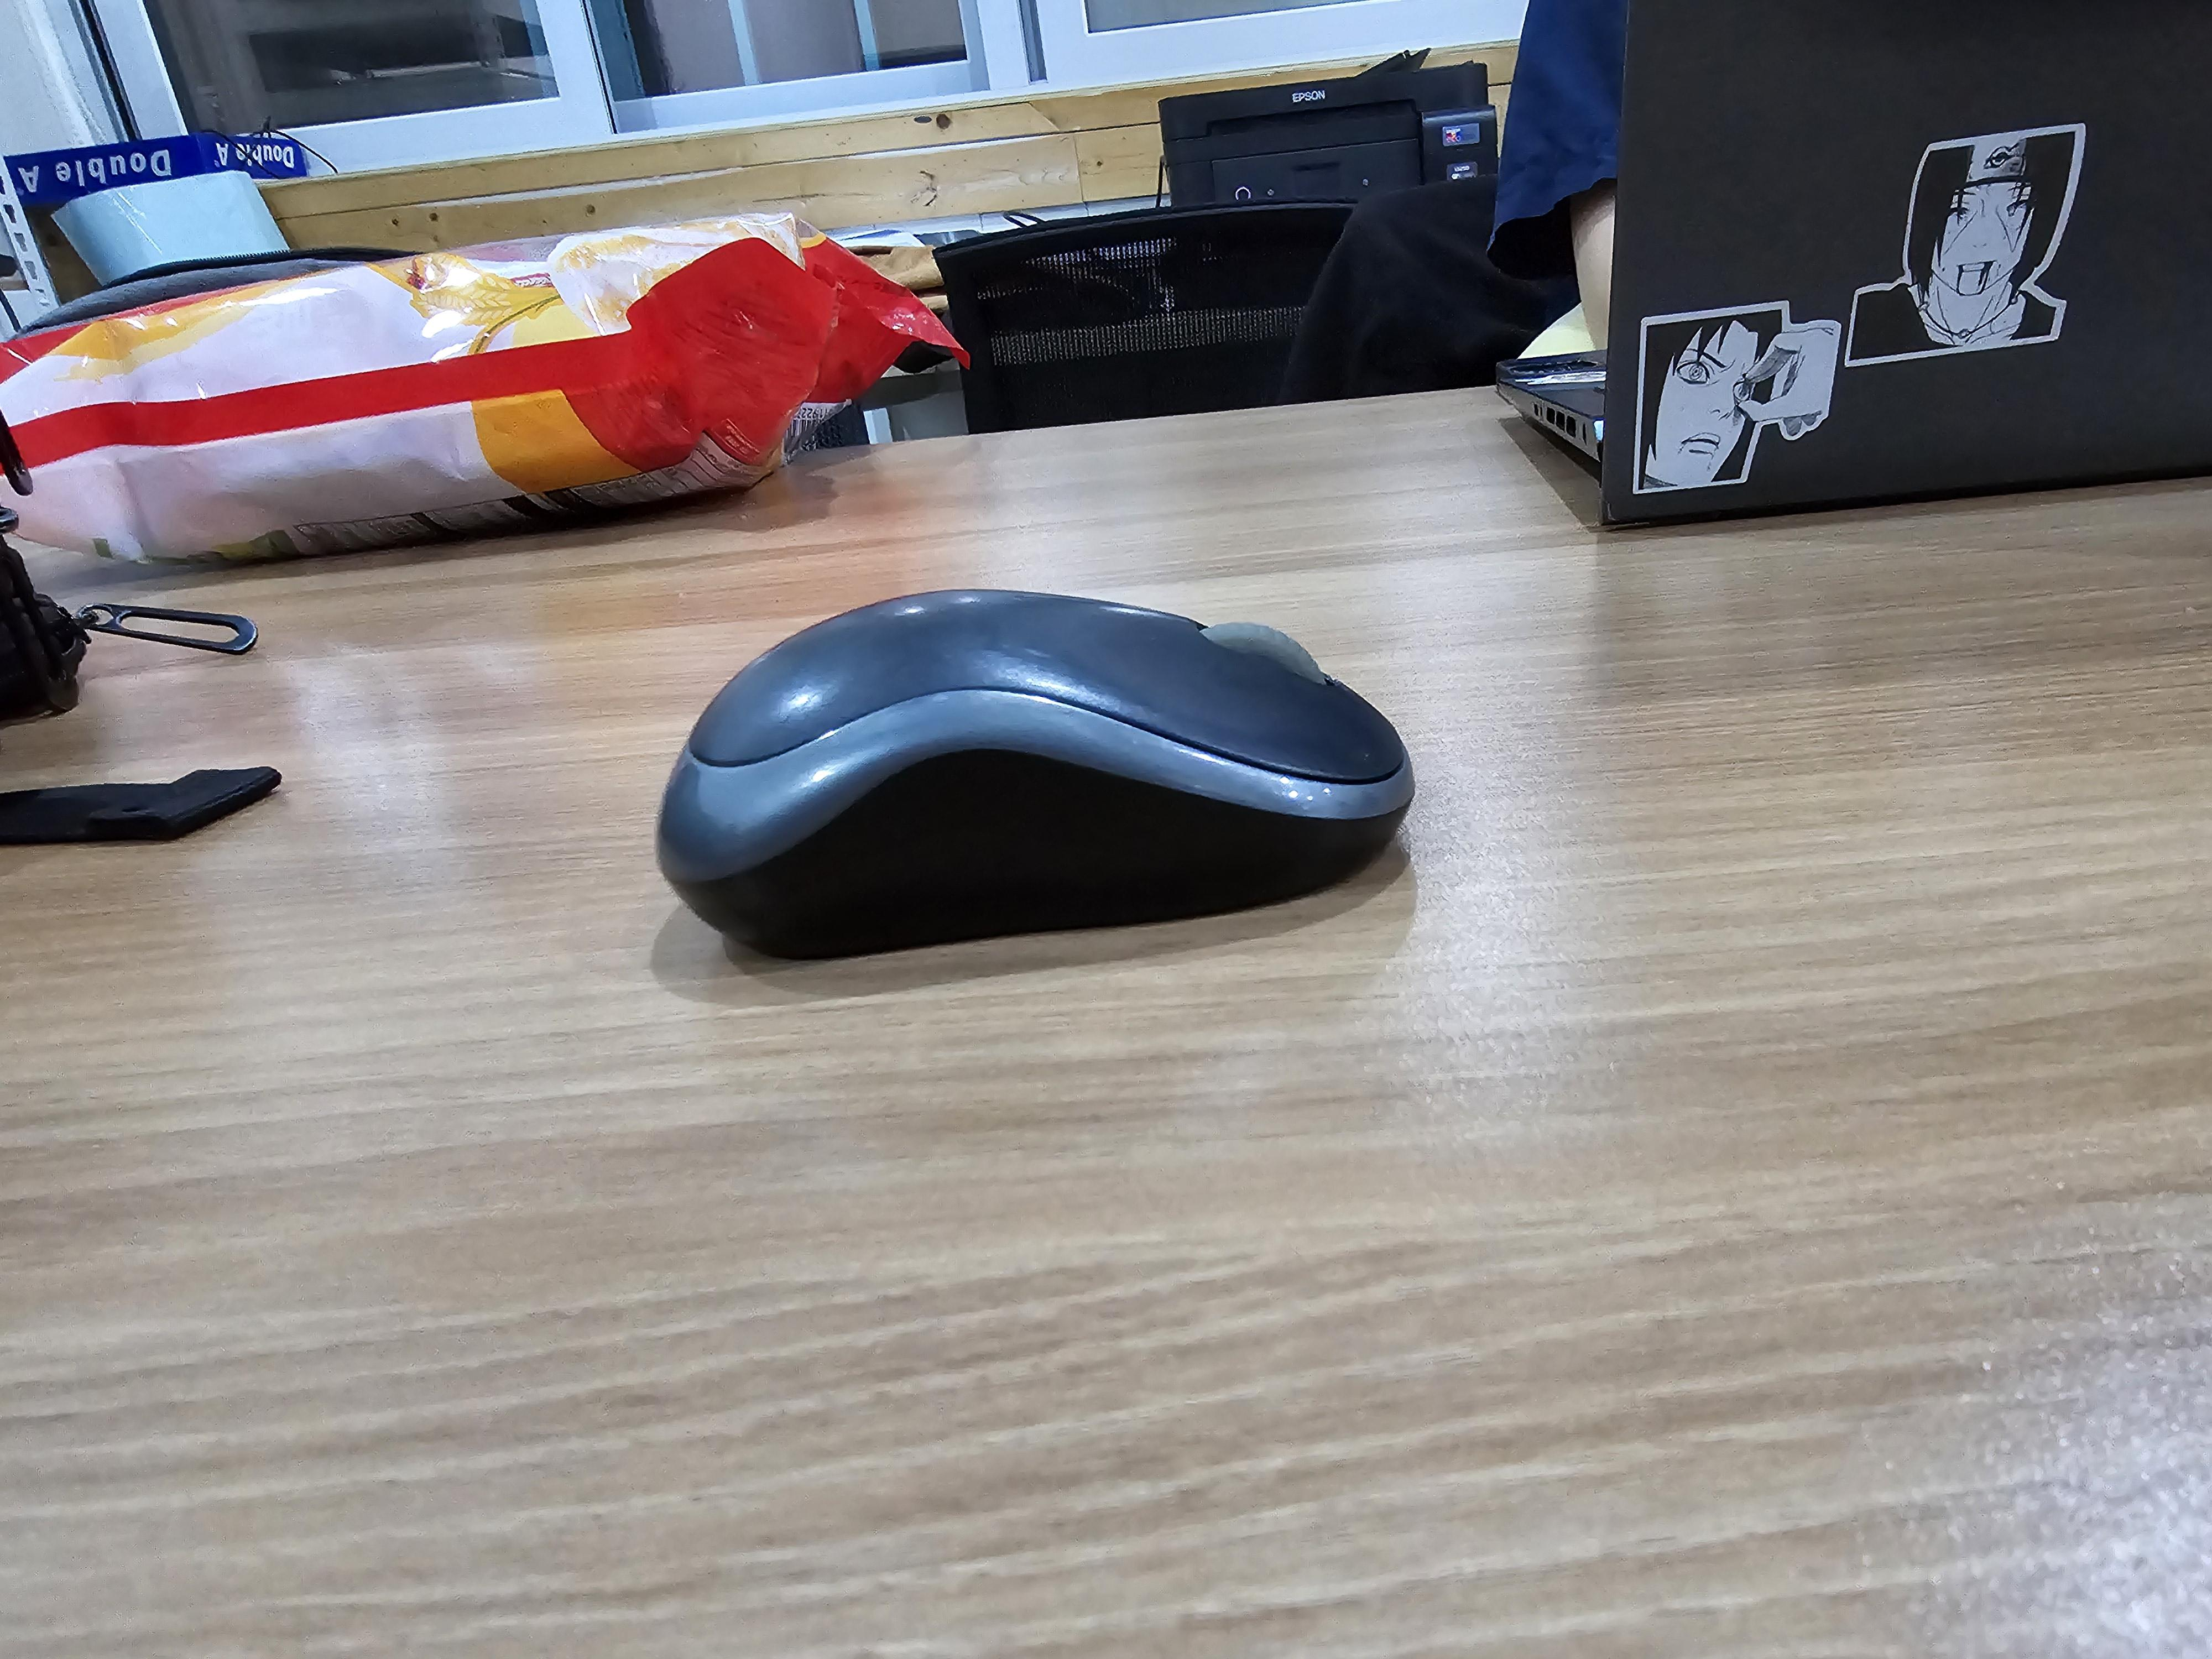mouse: (655, 584, 1416, 962)
